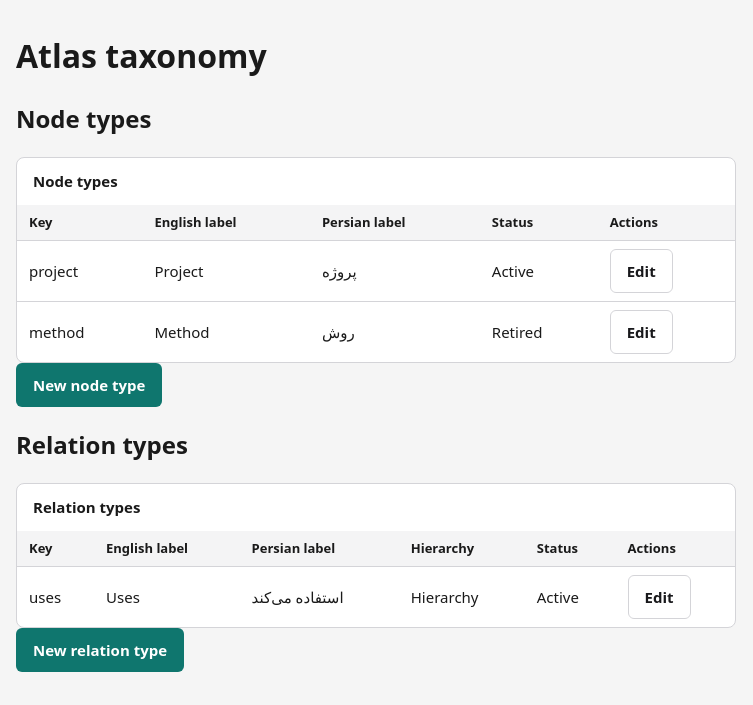
AtlasTaxonomyPage (Plan B Task 13) › opens the relation-type edit form from the table
Expected: the text "Uses" is shown, [94,567,240,627]
Step 1. Click the button "Edit" in the row of "استفاده می‌کند" → (659, 597), box [628,575,690,619]
(page scrolled)
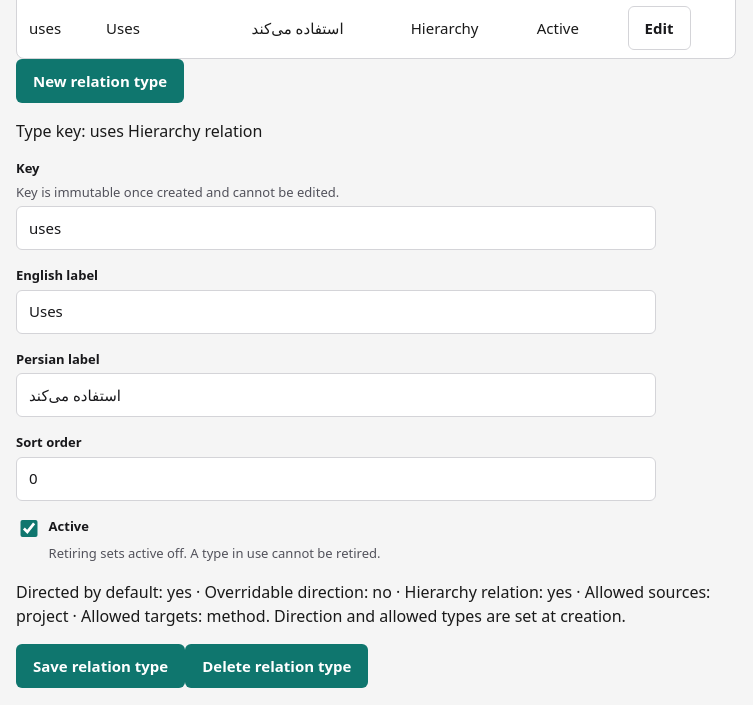
Expected: the button "Save relation type" is shown, [16,644,185,688]
